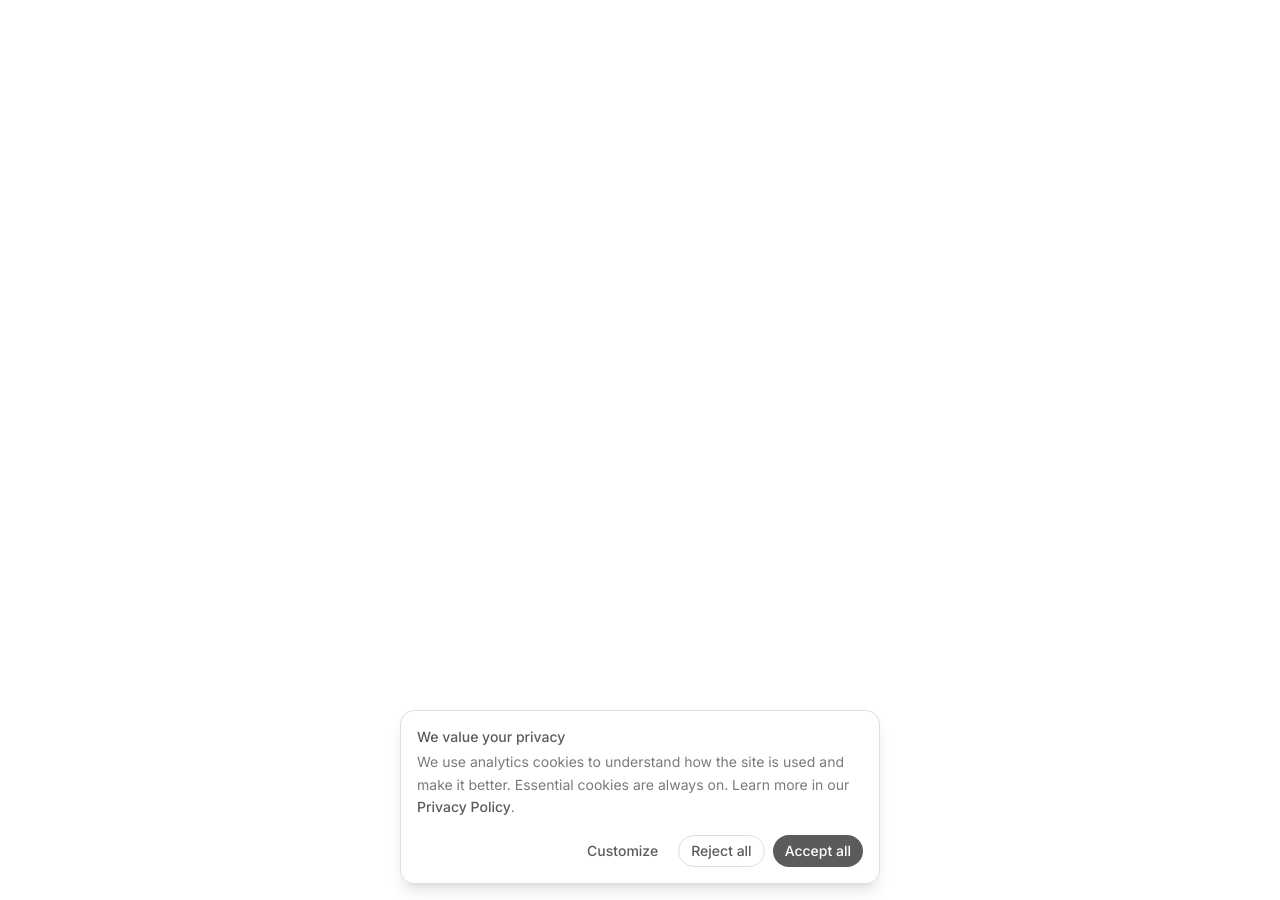
Test case: CookieConsent granular panel › Customize from the banner opens the panel without deciding yet
Click the button "Customize".
click(623, 851)  # box top-left (575, 835), bottom-right (670, 867)
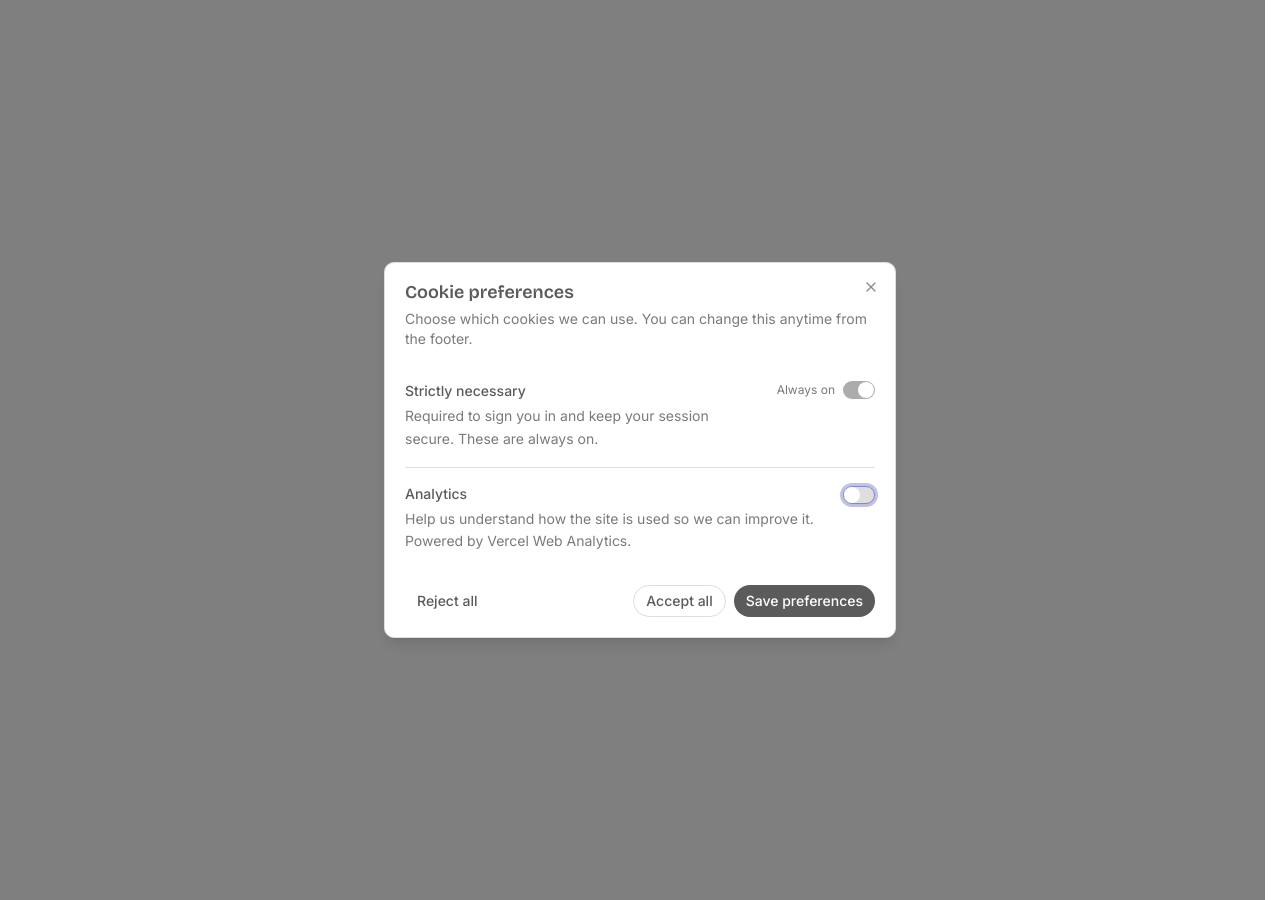
Now the heading "Cookie preferences" is shown, box top-left (405, 281), bottom-right (574, 303)
